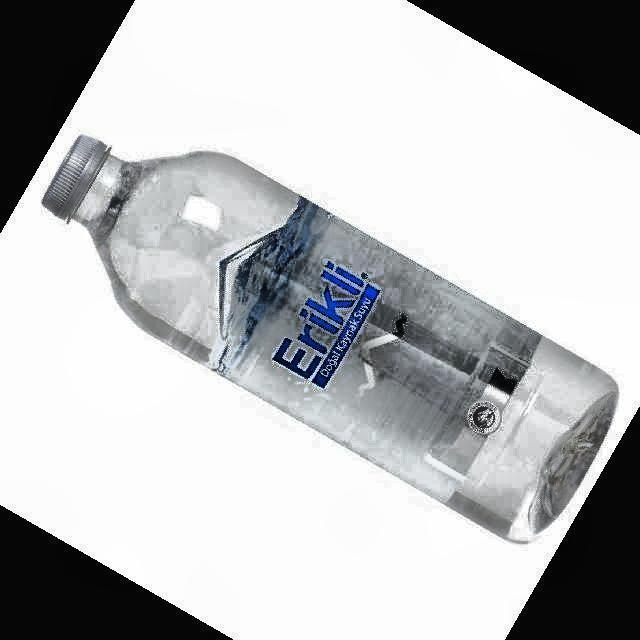plastic: (42, 136, 618, 542)
